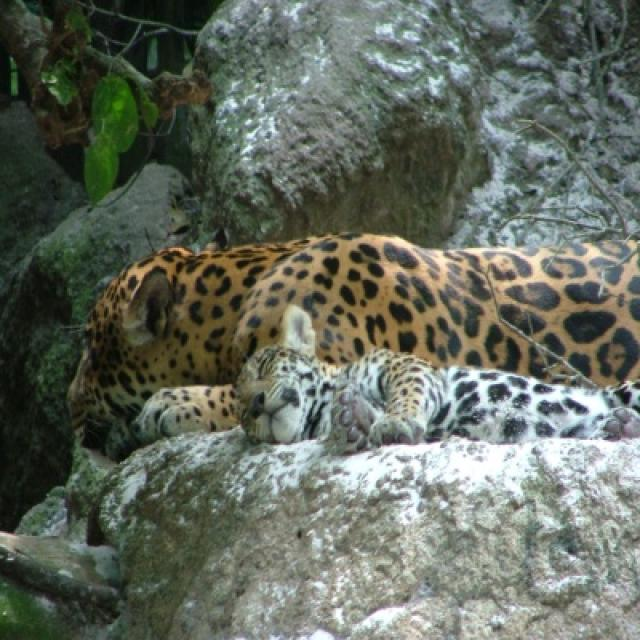Jaguar: (65, 233, 638, 462), (235, 307, 638, 446)
